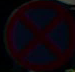No Stopping: (8, 6, 68, 66)
